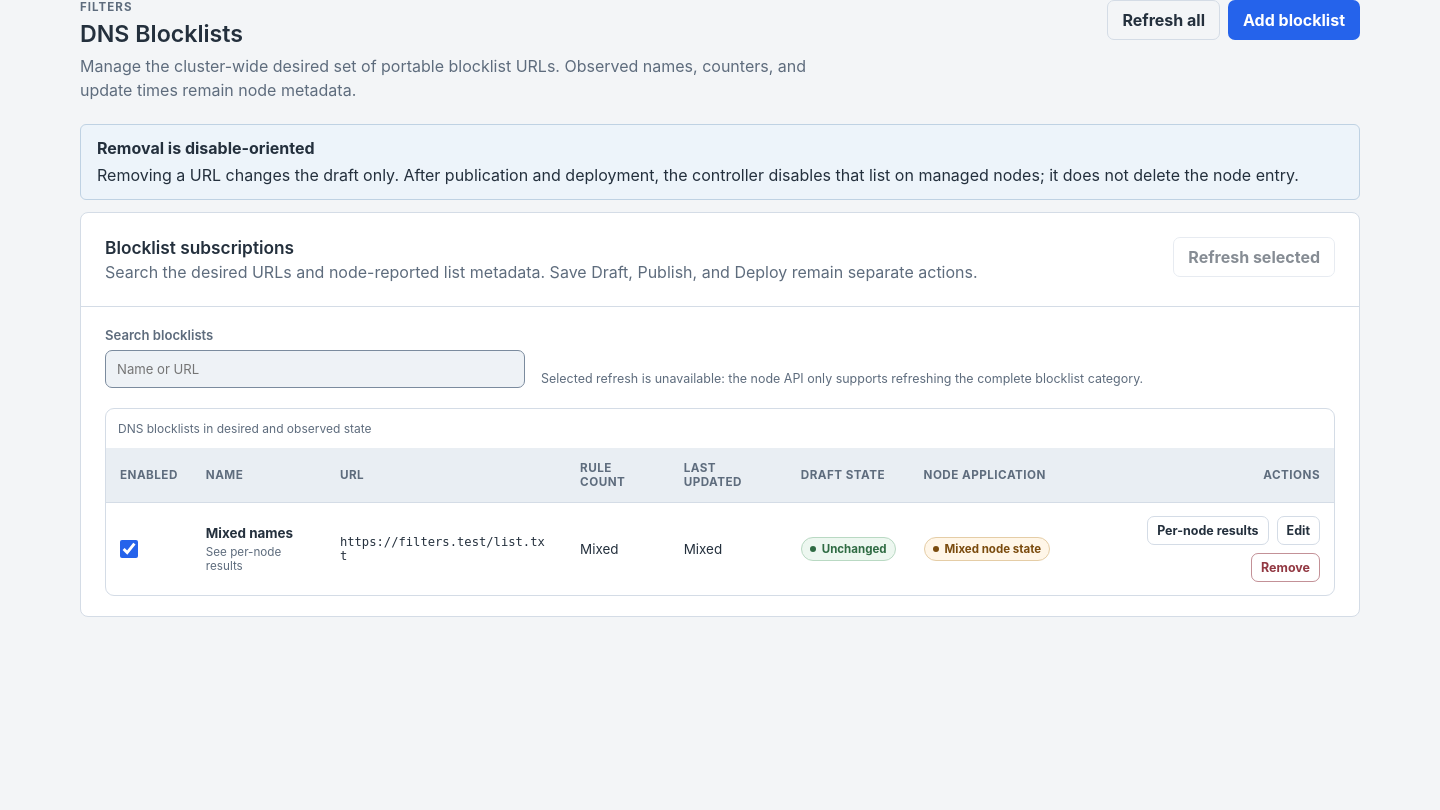
Test: DNS blocklists page › uses the row switch for the same confirmed disable-oriented draft change
What coordinates should you click on to do the following:
click the checkbox named "Disable Primary list"
I would click on:
 (129, 549)
Its box is [120,540,138,558].
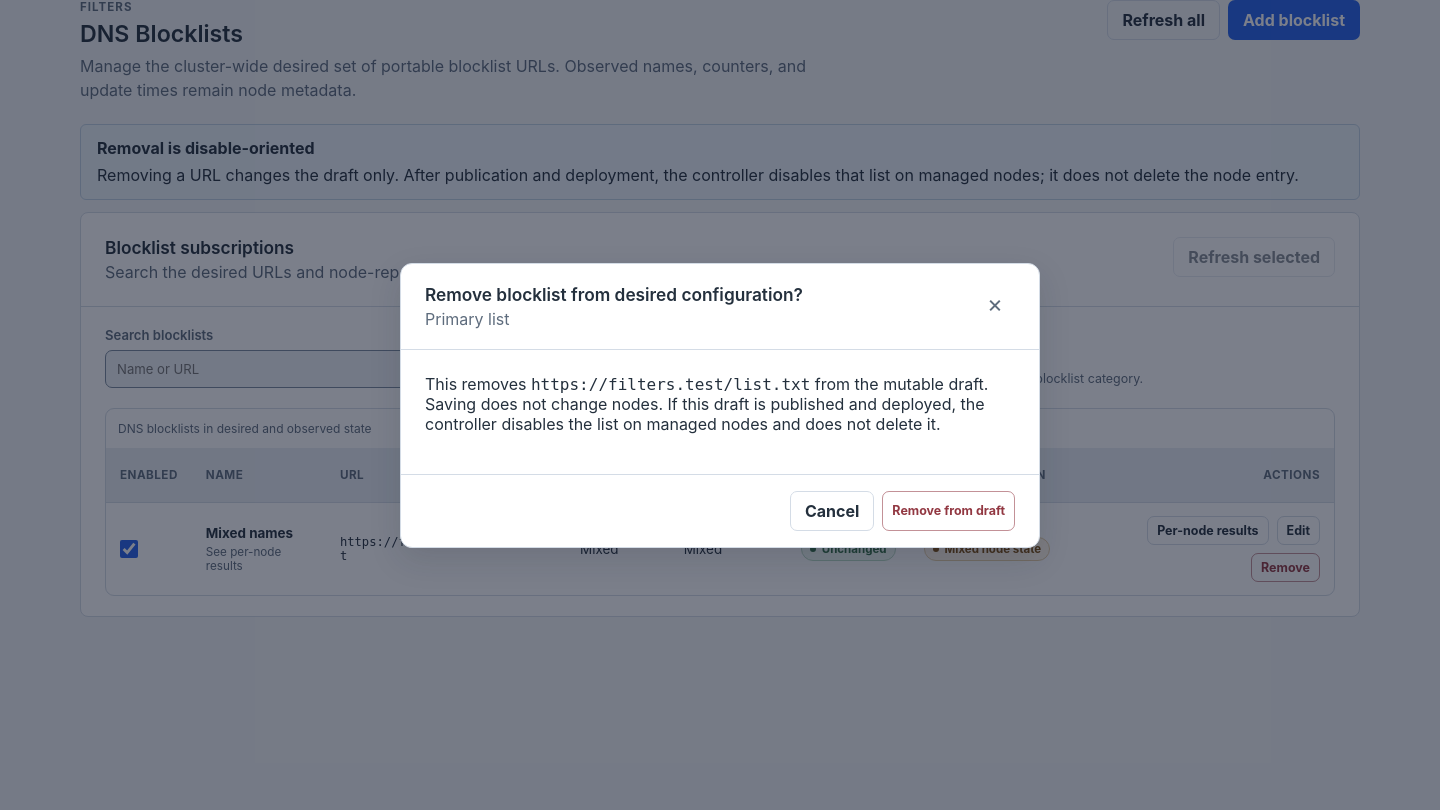
Now the heading "Remove blocklist from desired configuration?" is shown, box [425,284,803,304]
What coordinates should you click on to do the following:
click the button "Remove from draft"
I would click on:
 (949, 510)
Its box is [882,490,1015,530].
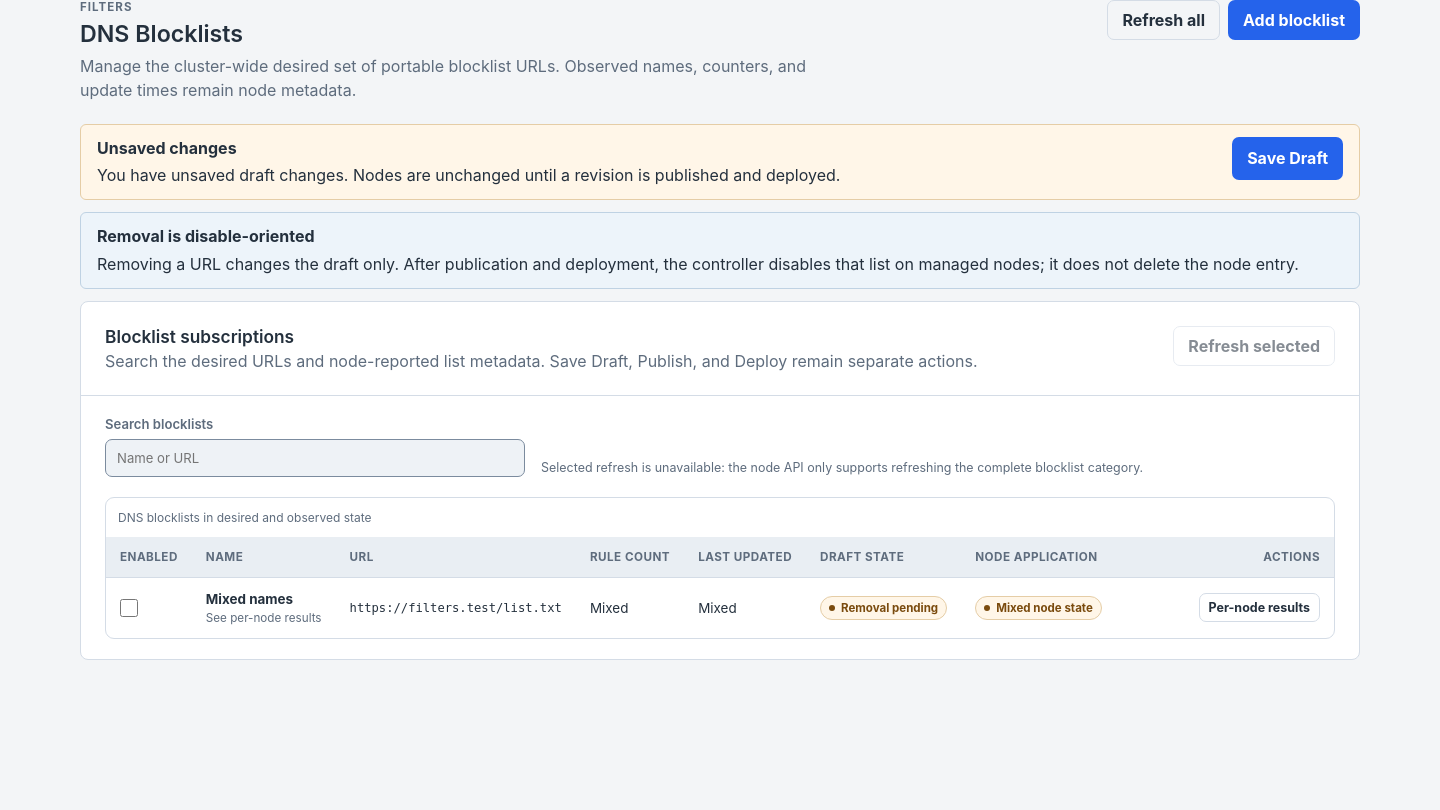
Now the text "Removal pending" is shown, box [820,596,947,620]
Now the text "Unsaved changes" is shown, box [97,138,237,158]
